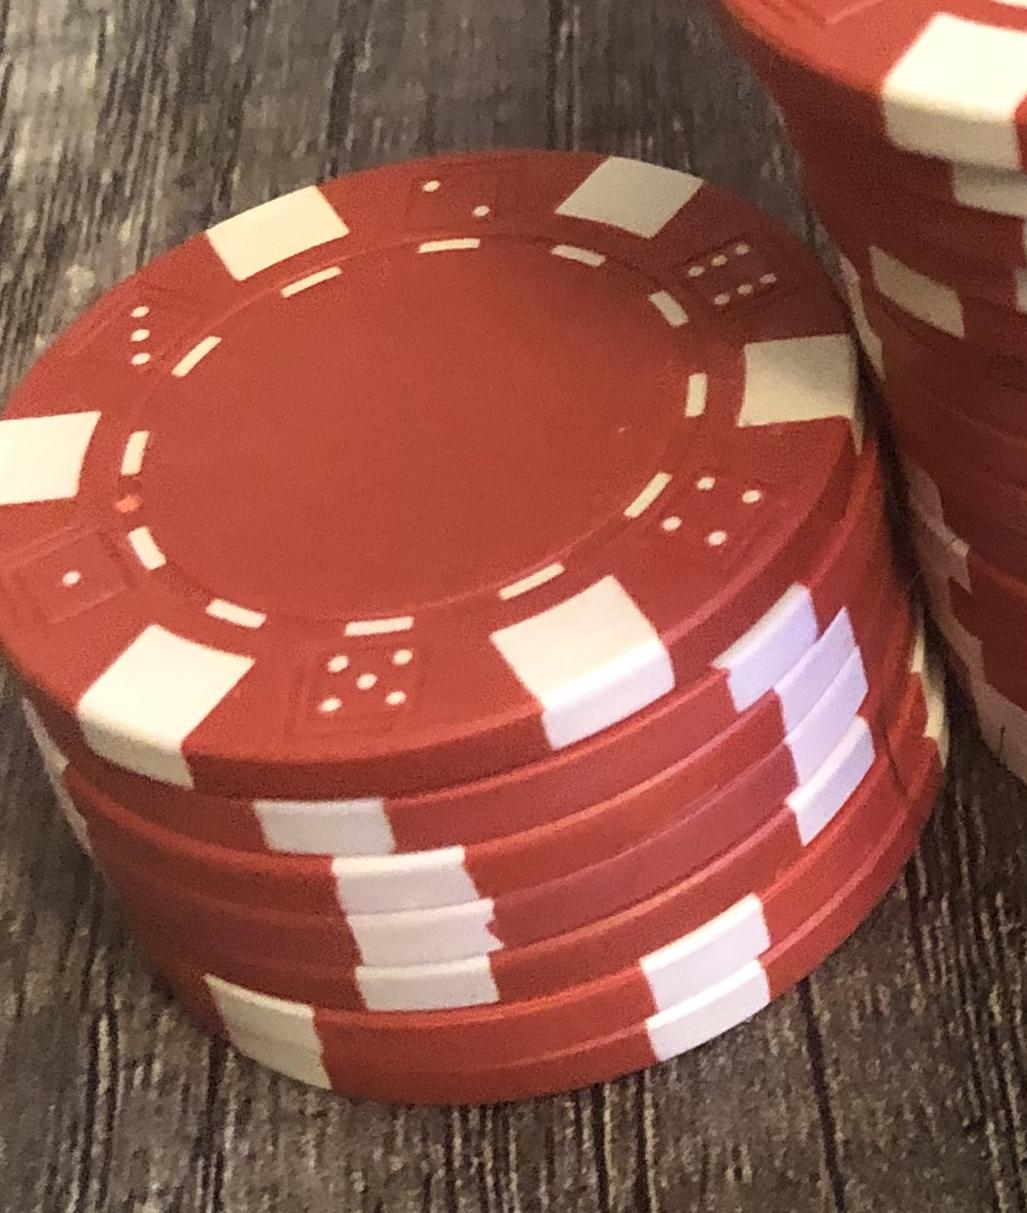Chip: (1, 1, 1027, 1213)
